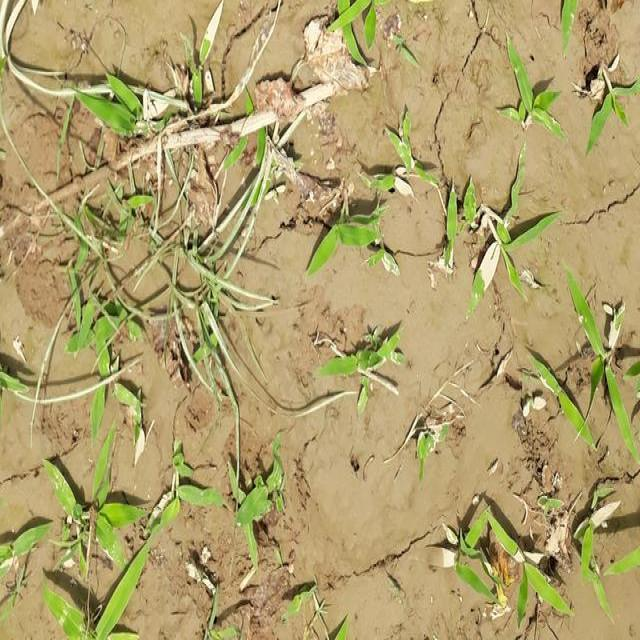weed: (17, 213, 172, 640), (432, 487, 640, 623), (299, 194, 403, 411)
